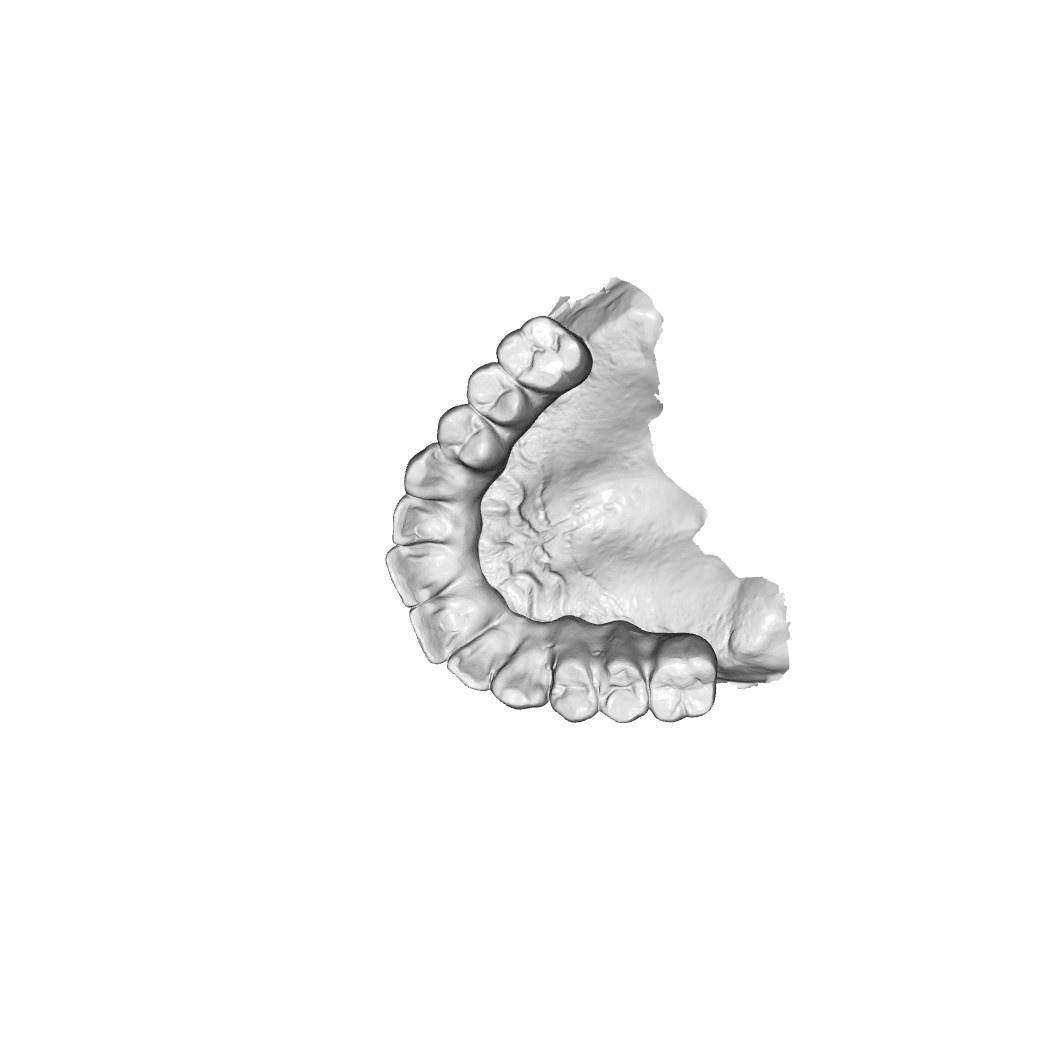canine: (403, 446, 484, 503), (494, 645, 551, 710)
incisor: (407, 595, 479, 665), (384, 541, 451, 609), (391, 497, 464, 552), (449, 633, 505, 694)
molar: (494, 314, 588, 394), (648, 638, 719, 724)
premolar: (598, 639, 652, 724), (433, 406, 507, 465), (548, 646, 601, 725), (464, 363, 533, 420)
